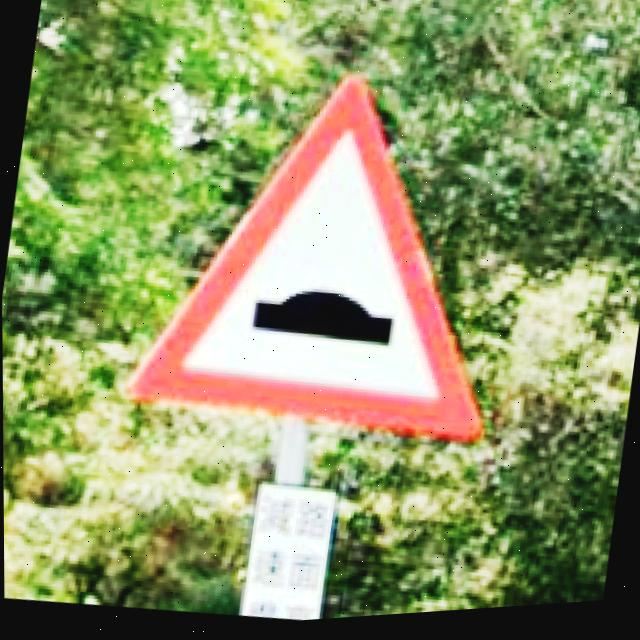hump: (123, 85, 482, 444)
